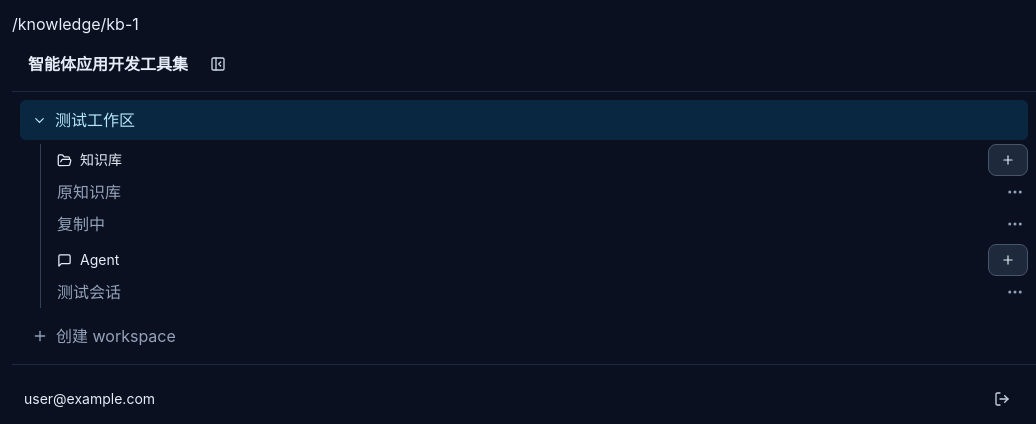
Scenario: knowledge menu opens, closes, and disables actions for unavailable knowledge bases
Click the button named "知识库操作：原知识库". click: (1015, 192)
box: [1002,179,1028,205]
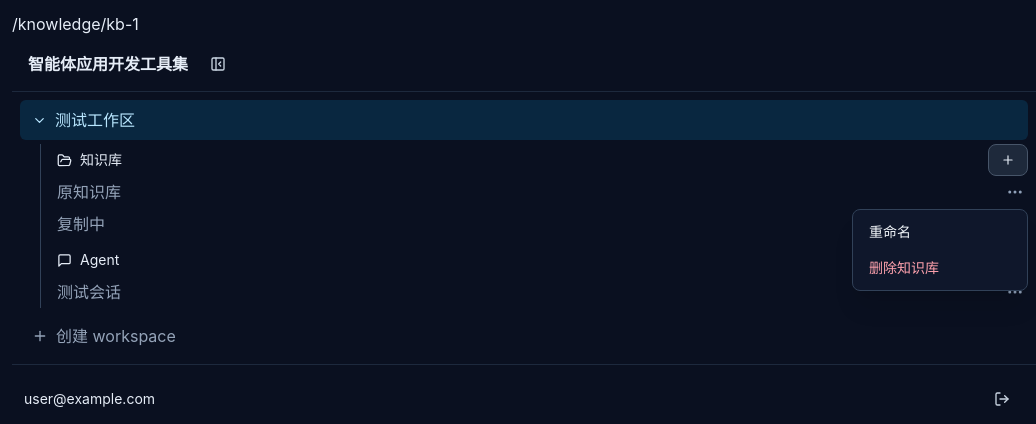
Expected: the menu item "删除知识库" is shown, [857,250,1023,286]
Press Escape
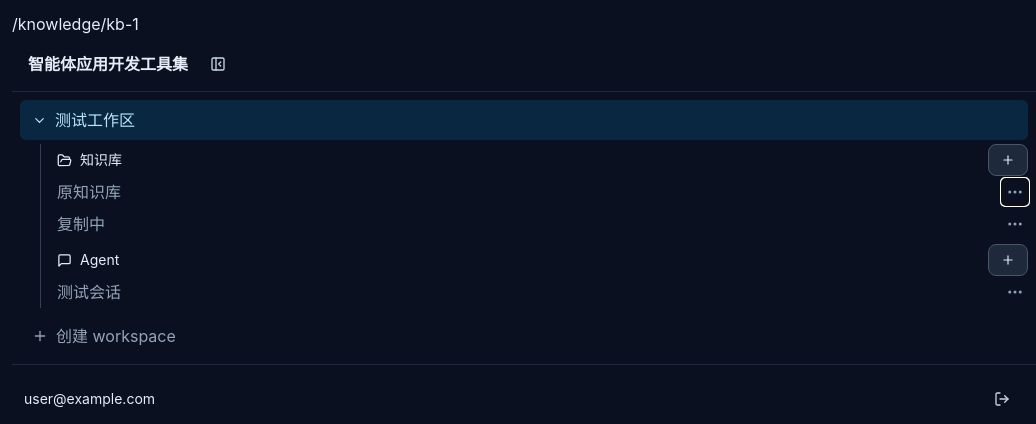
Expected: the button named "知识库操作：原知识库" is collapsed, [1002,179,1028,205]
Click the button named "知识库操作：复制中". click: (1015, 224)
box: [1002,211,1028,237]
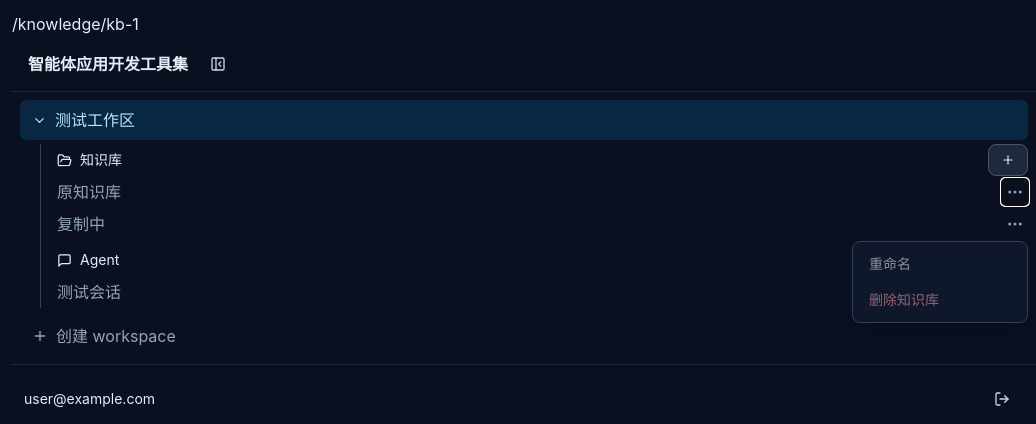
Expected: the menu item "重命名" is disabled, [857,246,1023,282]
Expected: the menu item "删除知识库" is disabled, [857,282,1023,318]
